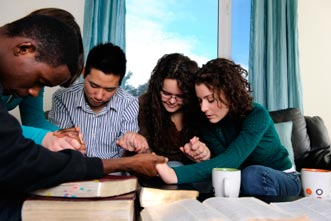Person: (3, 10, 74, 221), (200, 63, 278, 165), (78, 49, 142, 166), (149, 63, 187, 163)
